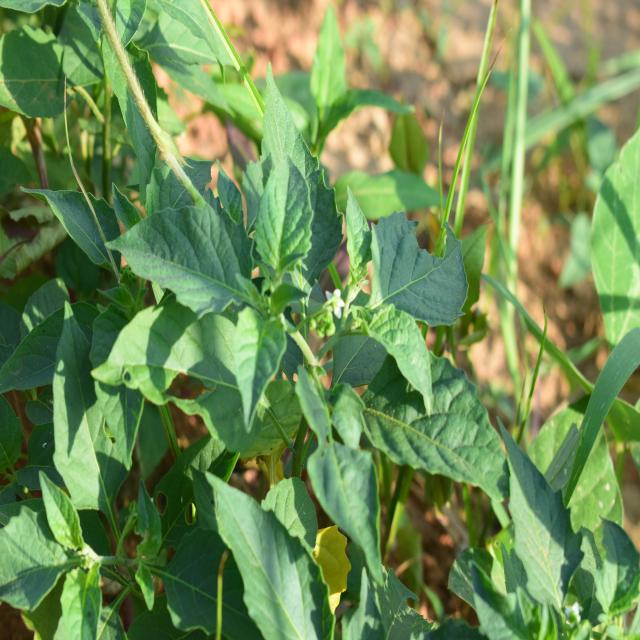Black_nightshade: (162, 133, 494, 537)
